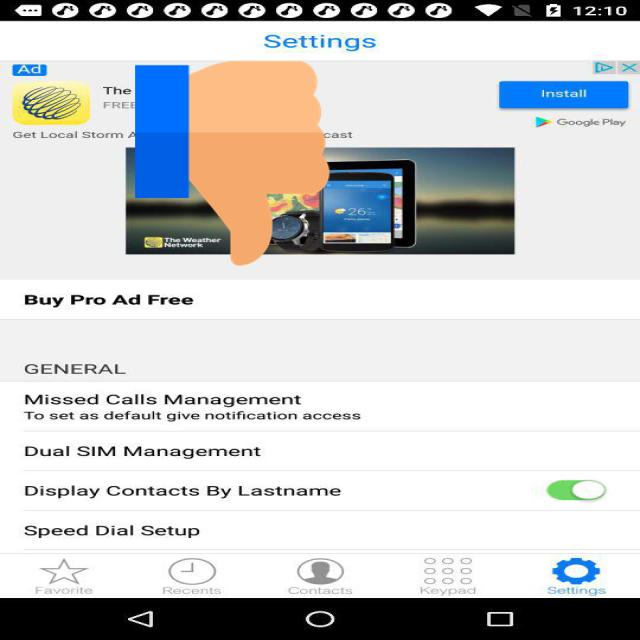obstruction: (135, 56, 330, 271)
